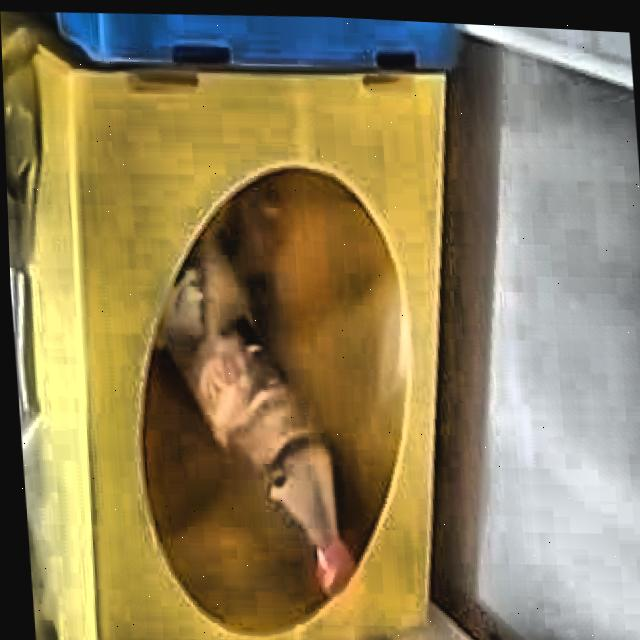plastic: (153, 236, 349, 592)
